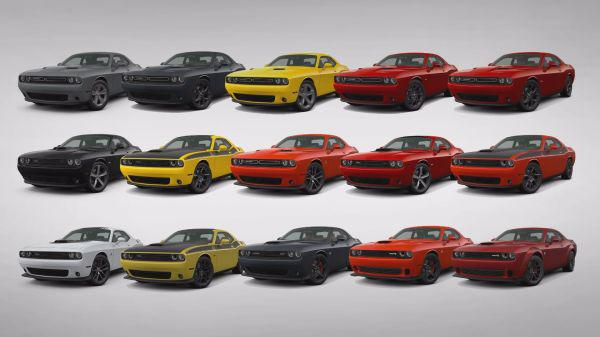car: (333, 42, 458, 123), (234, 132, 362, 210), (233, 218, 364, 293), (222, 40, 348, 116), (18, 41, 141, 118), (455, 46, 579, 122), (452, 220, 579, 294), (126, 218, 253, 290), (18, 218, 138, 293), (128, 40, 242, 117), (347, 218, 472, 288), (14, 126, 136, 197), (129, 128, 236, 204), (456, 135, 581, 198), (348, 134, 463, 202)
